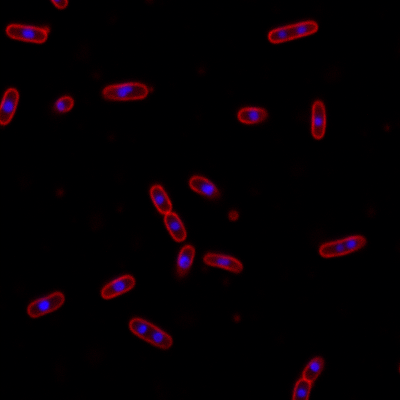CAM: (148, 183, 188, 245), (129, 316, 174, 350), (266, 21, 320, 45), (316, 235, 366, 258), (25, 290, 66, 318), (101, 81, 150, 102), (202, 250, 244, 274), (4, 22, 49, 44), (99, 274, 136, 300), (0, 86, 20, 129), (308, 99, 326, 141)
Oblique: (188, 173, 221, 202), (175, 244, 196, 282), (237, 105, 272, 125), (50, 95, 73, 115)
Vesicle: (53, 186, 66, 200), (227, 210, 241, 222), (230, 312, 244, 323)
